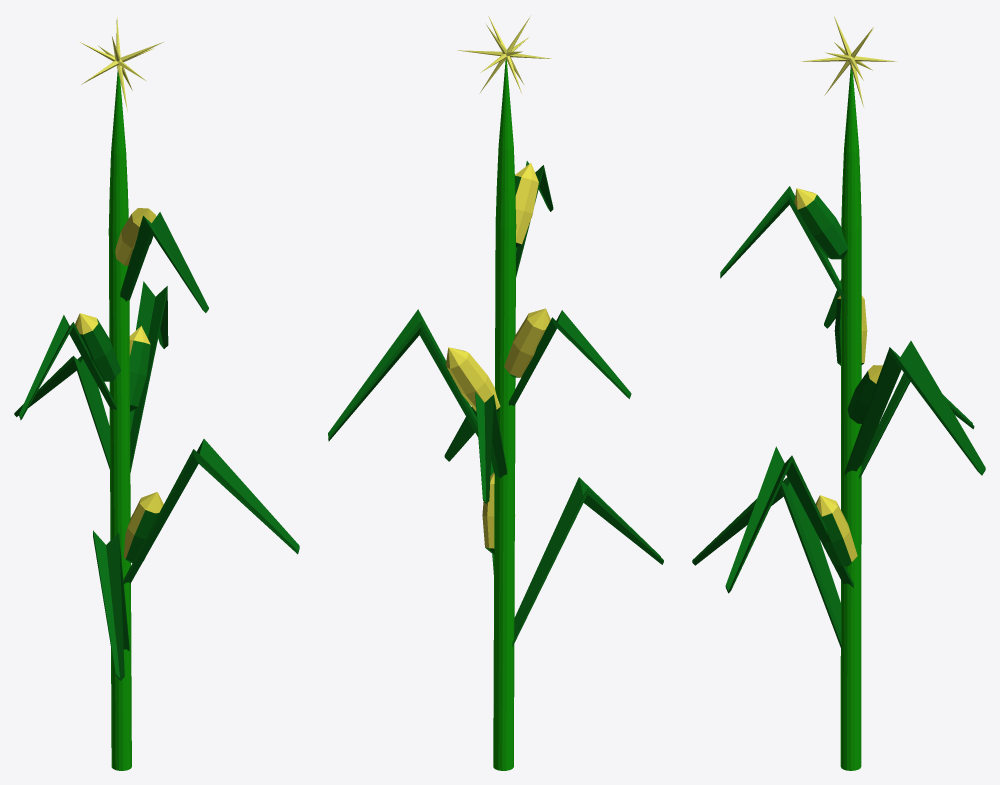
The model's file is SM_Corn.fbx.
3 views of the same model, side by side, from view 1: azimuth 30°, elevation 25°; view 2: azimuth 150°, elevation 25°; view 3: azimuth 270°, elevation 25° (orthographic).
Parts seen in each view (by area): view 1: Corn; view 2: Corn; view 3: Corn.
Part boxes in pixels (x1,y1,x2,y2): Corn: (14,16,299,770); Corn: (328,15,663,770); Corn: (692,16,985,770).
Size of the model in its own units: 97.89 by 301 by 108.
